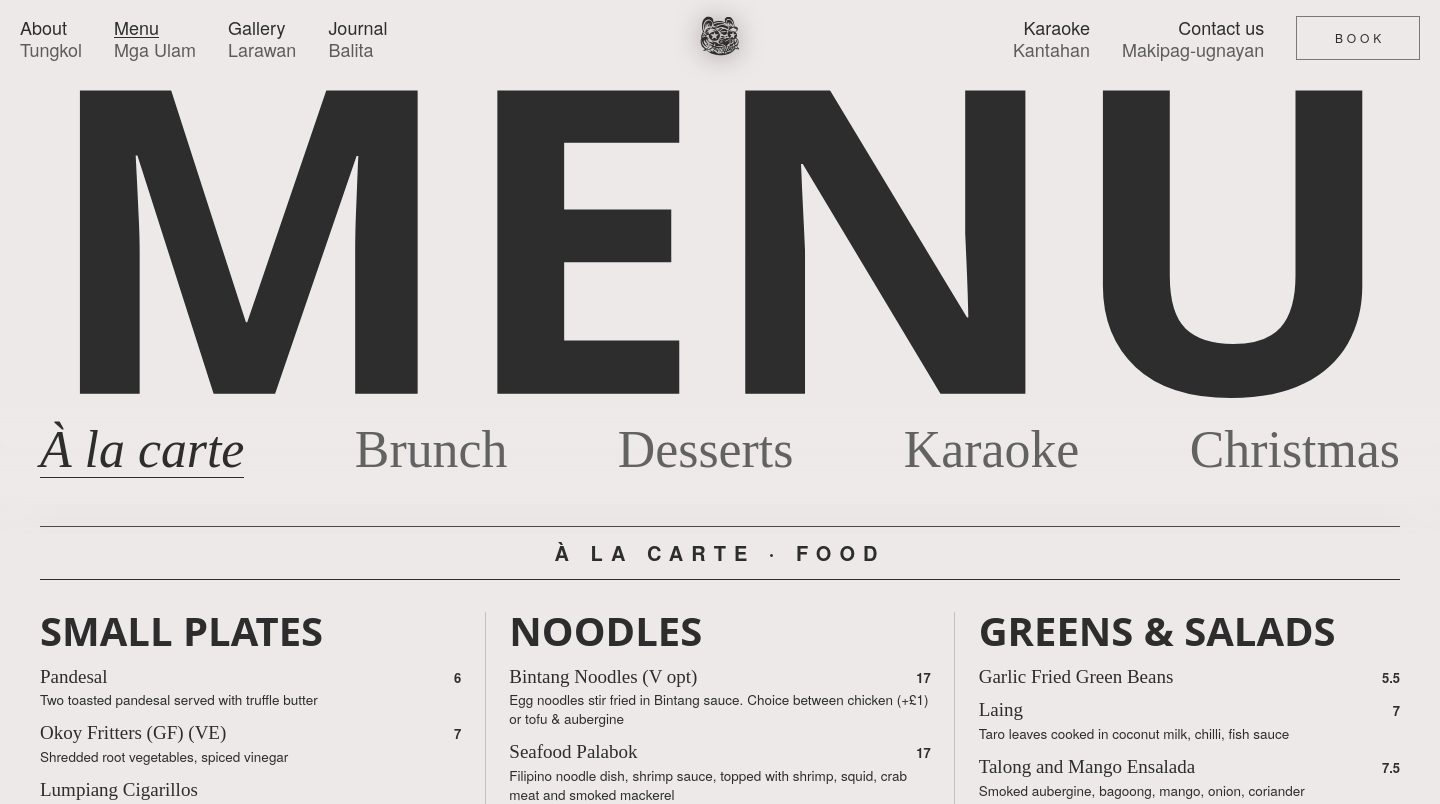
Test: MenuPage › clicking Brunch selects it, updates the hash and swaps the content
Click the tab "Brunch".
click(431, 449)  # box [355, 421, 507, 478]
(page scrolled)
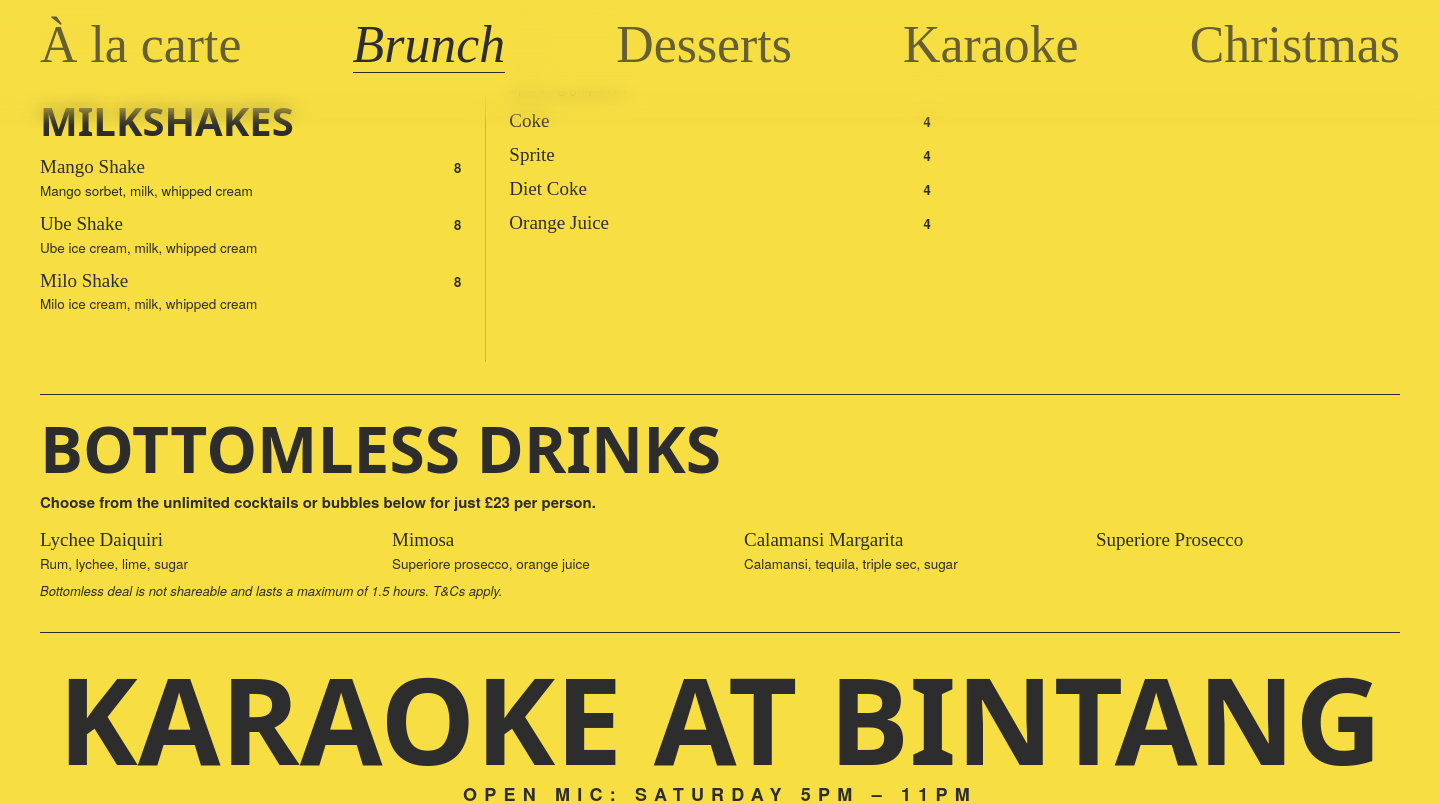
Result: the heading "Bottomless drinks" is shown at [40, 405, 721, 492]
Result: the heading "À la carte · Food" is gone
